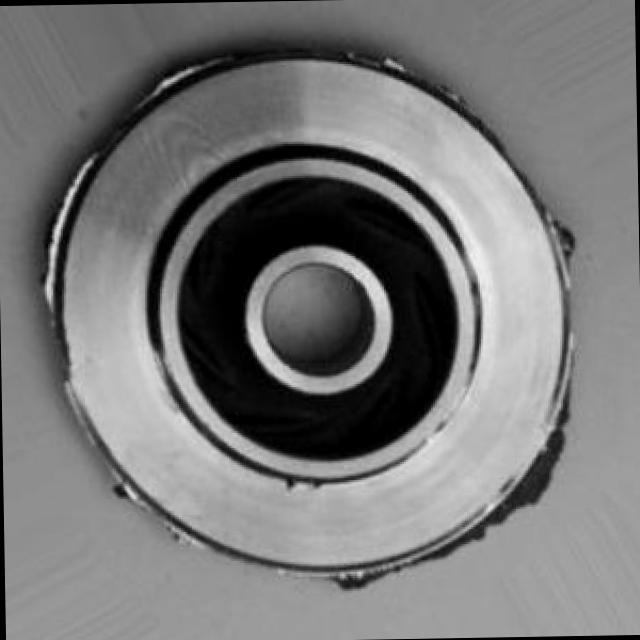Defect: (494, 434, 576, 516)
